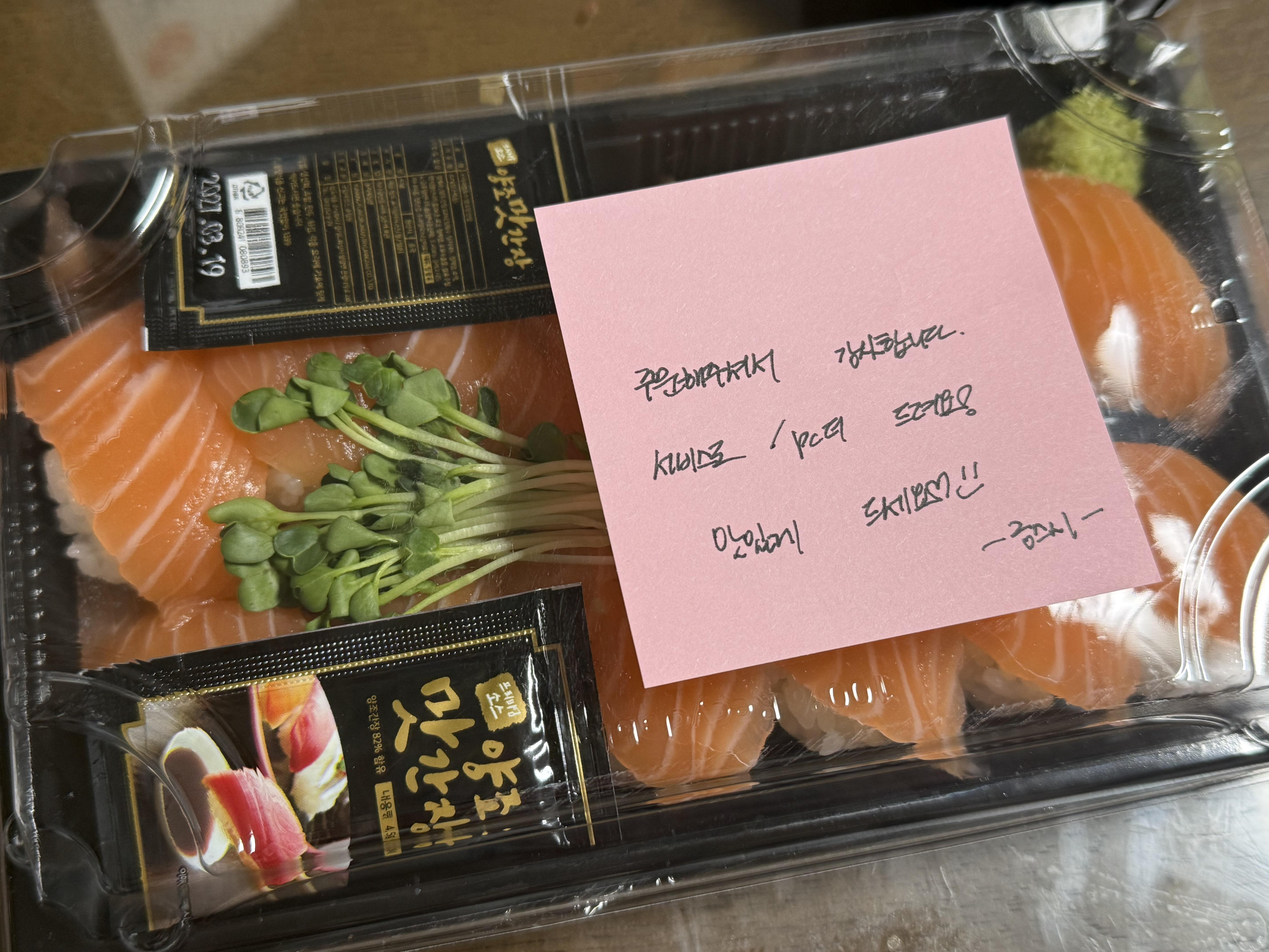Lunch Box: (0, 0, 1263, 952)
